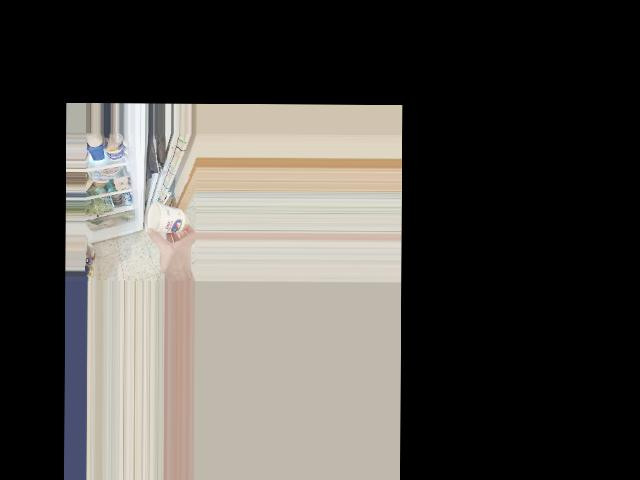cotage: (147, 202, 186, 238)
